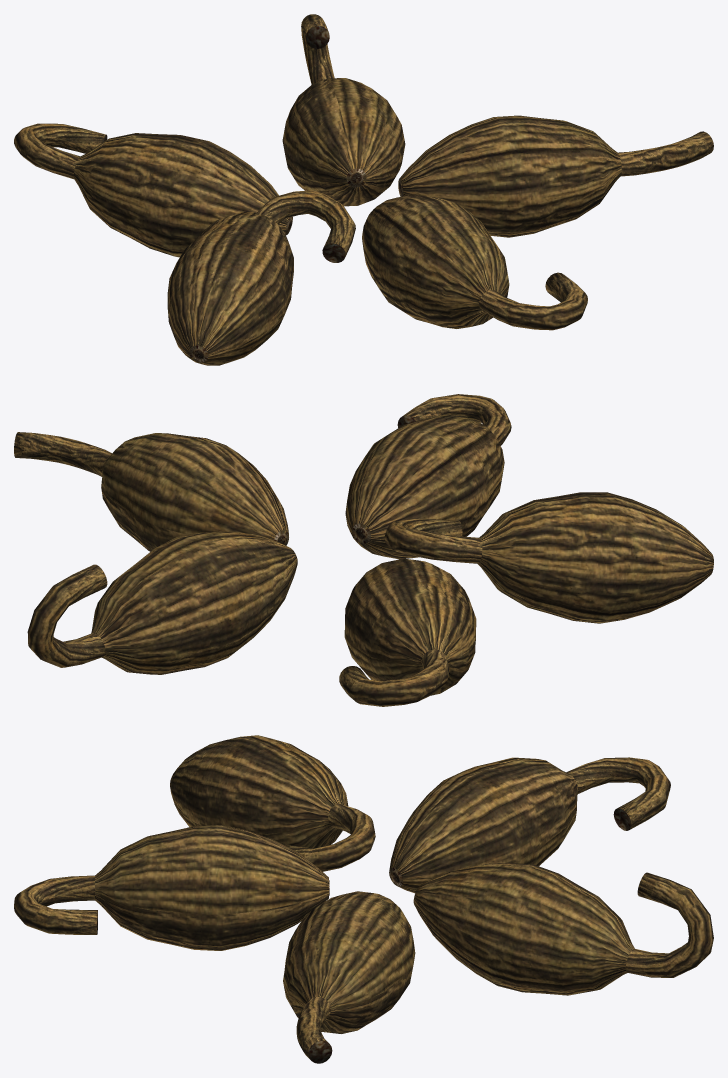
File: caoguo.FBX
3 views of the same model, one above another, from view 1: azimuth 30°, elevation 25°; view 2: azimuth 150°, elevation 25°; view 3: azimuth 270°, elevation 25° (orthographic). The views are drawn at different scales.
Parts seen in each view (by area): view 1: Cylinder002, Cylinder004, Cylinder005, Cylinder001, Cylinder003; view 2: Cylinder005, Cylinder003, Cylinder002, Cylinder001, Cylinder004; view 3: Cylinder001, Cylinder003, Cylinder004, Cylinder005, Cylinder002.
Boxes of the visible parts, x1,y1,x2,y2 form: Cylinder002: (398,115,713,237); Cylinder004: (14,123,292,257); Cylinder005: (167,190,355,365); Cylinder001: (362,195,587,330); Cylinder003: (282,14,405,206); Cylinder005: (384,492,713,623); Cylinder003: (27,531,297,674); Cylinder002: (14,432,288,551); Cylinder001: (345,394,511,559); Cylinder004: (339,558,476,706); Cylinder001: (14,825,329,950); Cylinder003: (413,863,713,995); Cylinder004: (389,757,670,893); Cylinder005: (170,735,375,871); Cylinder002: (283,891,415,1063).
Bounding box in the file's own units: 58.39 × 11.72 × 58.31.
